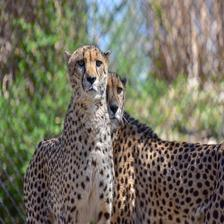Cheetah: (96, 71, 224, 223), (23, 37, 117, 222)
